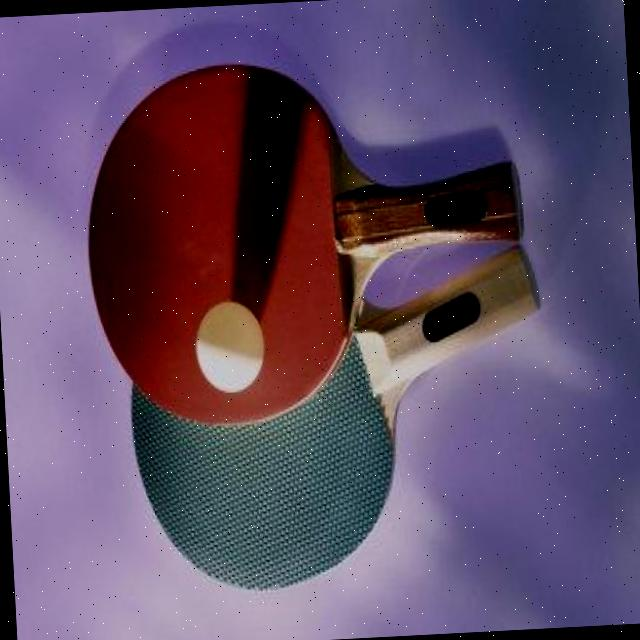ping-pong-ball: (190, 302, 267, 394)
